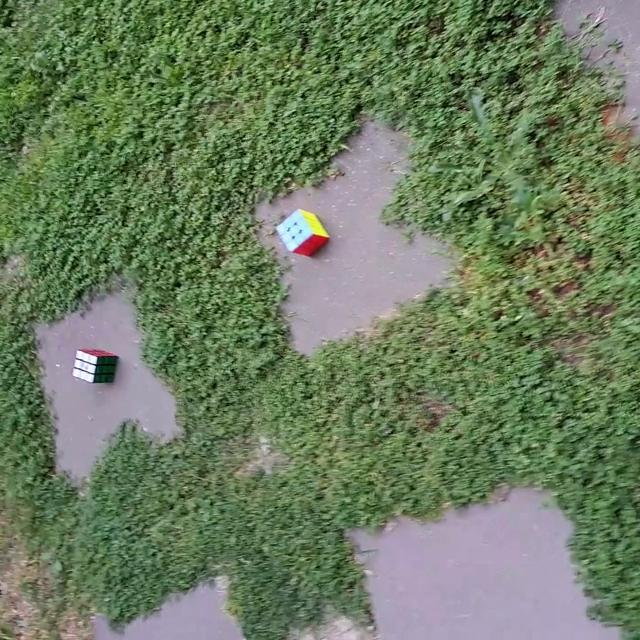rubix_cube: (273, 208, 333, 260), (70, 346, 120, 386)
